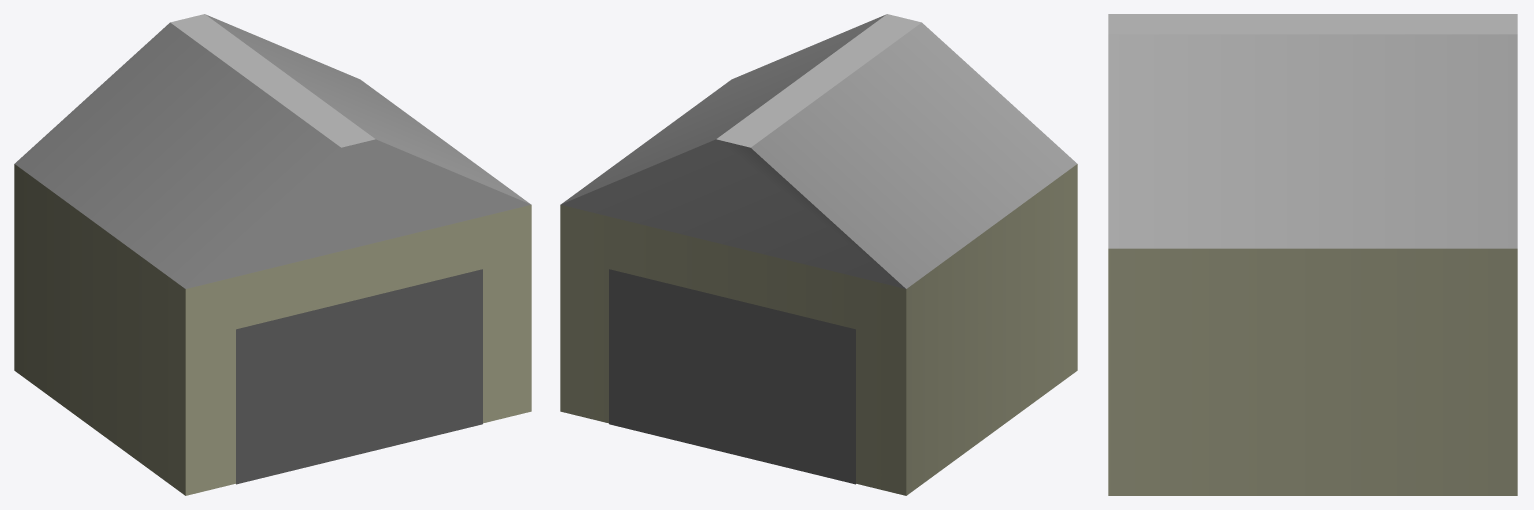
File: hangar-alternate-high.glb
3 views of the same model, side by side, from view 1: azimuth 30°, elevation 25°; view 2: azimuth 150°, elevation 25°; view 3: azimuth 270°, elevation 25° (orthographic). The views are drawn at different scales.
Visible parts, largest first — view 1: mesh0; view 2: mesh0; view 3: mesh0.
Boxes of the visible parts, x1,y1,x2,y2 form: mesh0: (14,14,531,495); mesh0: (560,14,1077,495); mesh0: (1108,14,1517,495).
Bounding box in the file's own units: 0.7 × 0.6 × 0.606.
